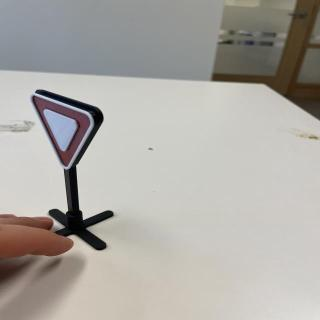sign_yield: (29, 93, 103, 176)
